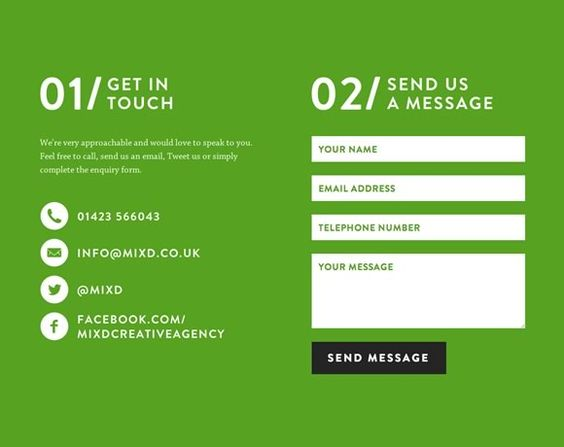_form_: (141, 10, 557, 426), (22, 116, 327, 353)
button: (311, 341, 446, 375)
field: (311, 252, 526, 329), (310, 213, 526, 242), (310, 135, 526, 163), (310, 174, 526, 202)
